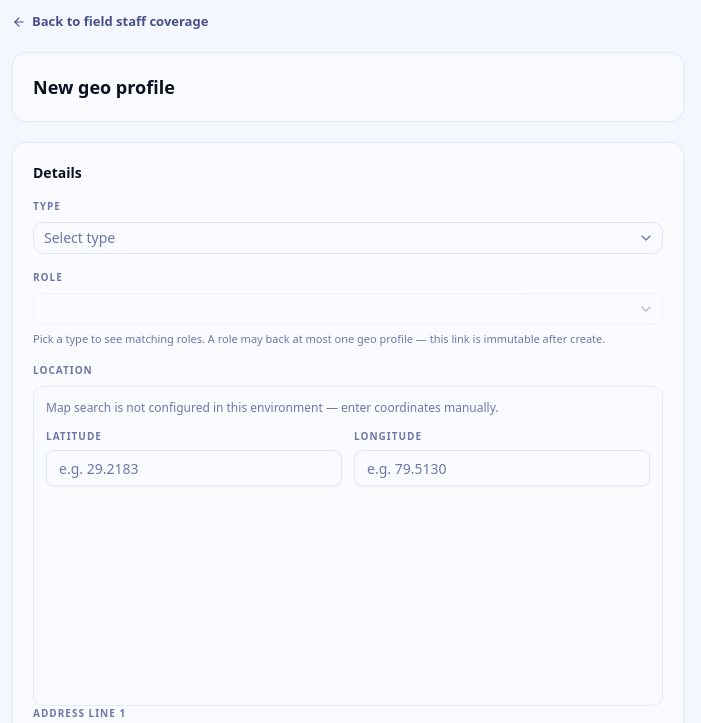
Test case: GeoProfileDetailPage — create mode › clears a previously-picked Role when the type changes, since the old role may no longer match
The width and height of the screenshot is (701, 723).
Click the dropdown labelled "Select type ▼": point(80, 237) [33,222,663,254]
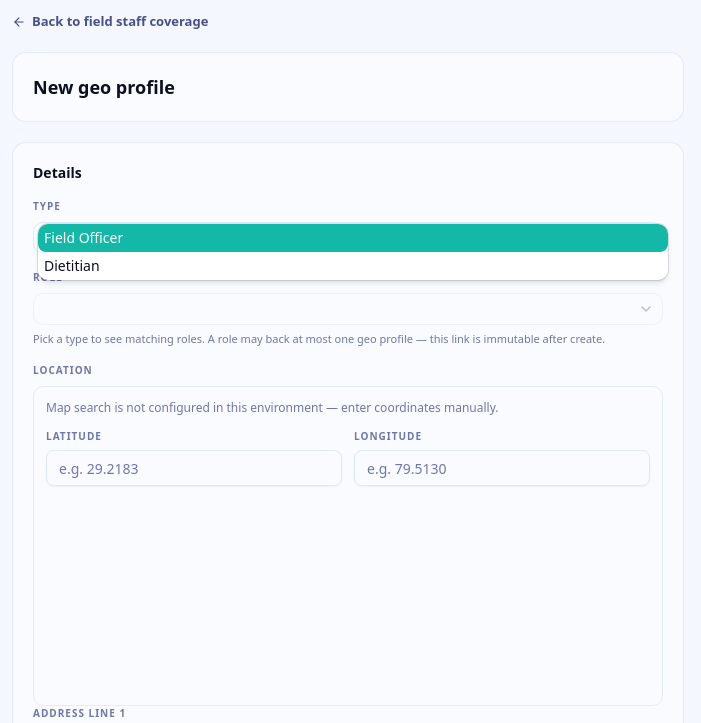
Click the option "Field Officer": point(84, 237) [38,224,668,252]
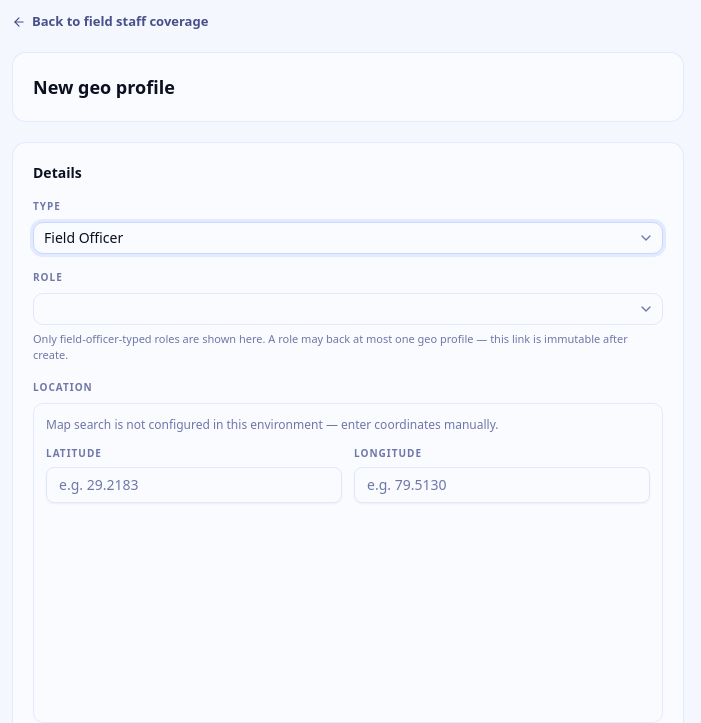
Click the dropdown named "role": point(646, 308) [33,292,663,324]
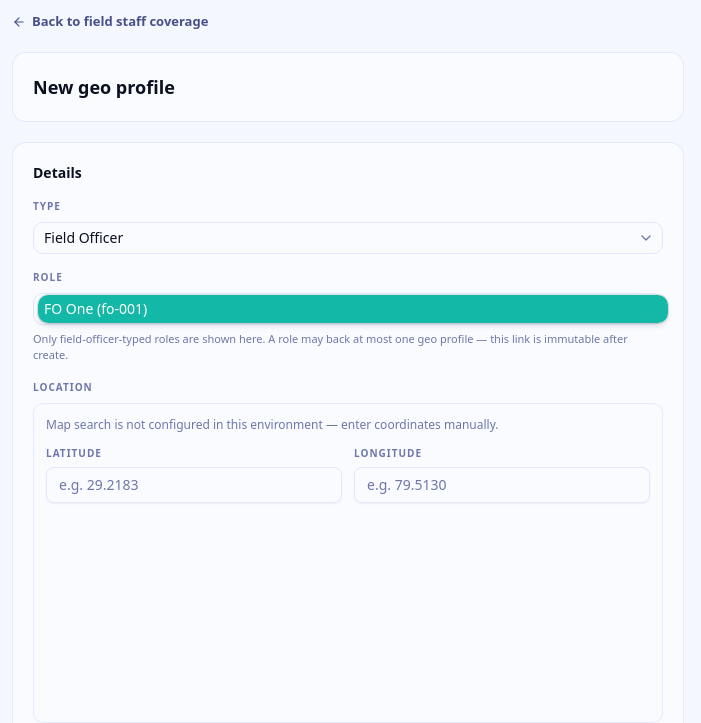
Click the option "FO One (fo-001)": point(69, 308) [38,294,668,322]
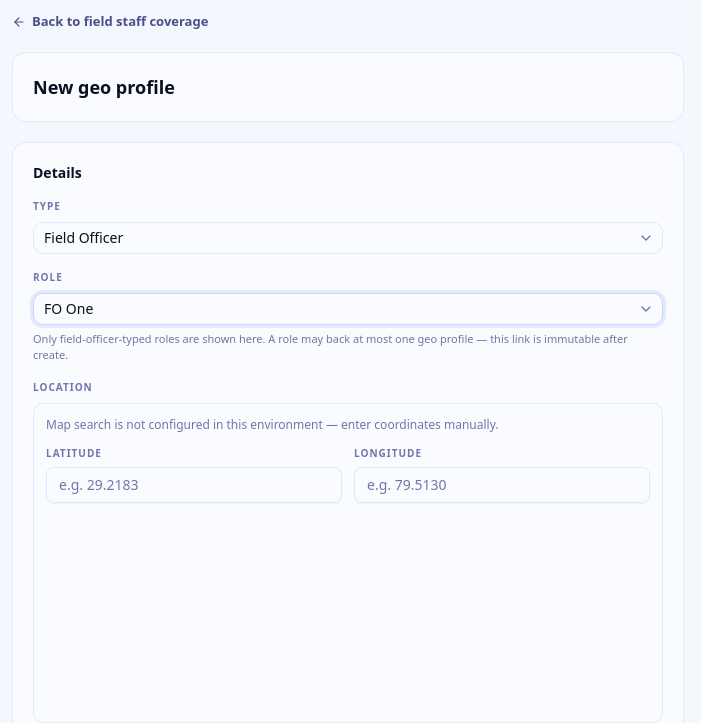
Check: the dropdown named "role" shows "FO One", box [33,292,663,324]
Click the dropdown named "type": point(84, 237) [33,222,663,254]
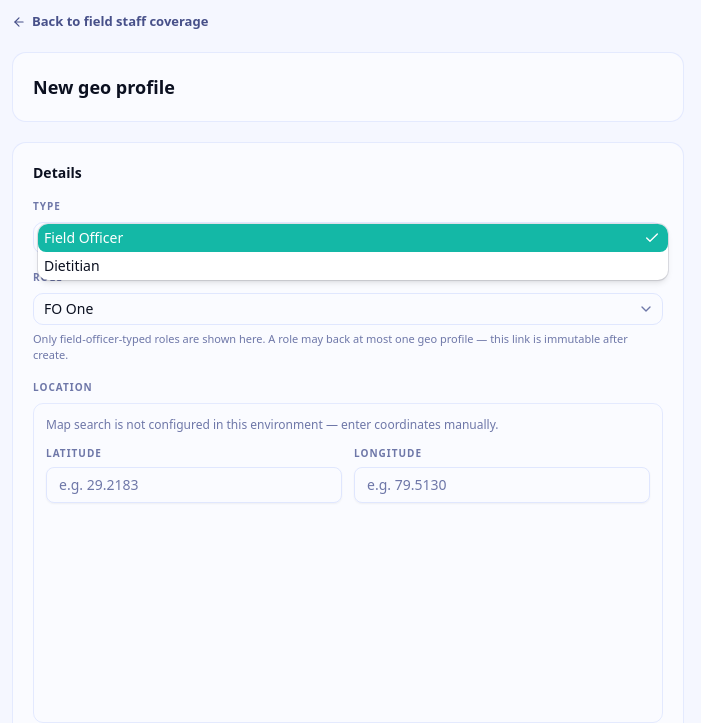
Click the option "Dietitian": point(72, 265) [44,256,100,274]
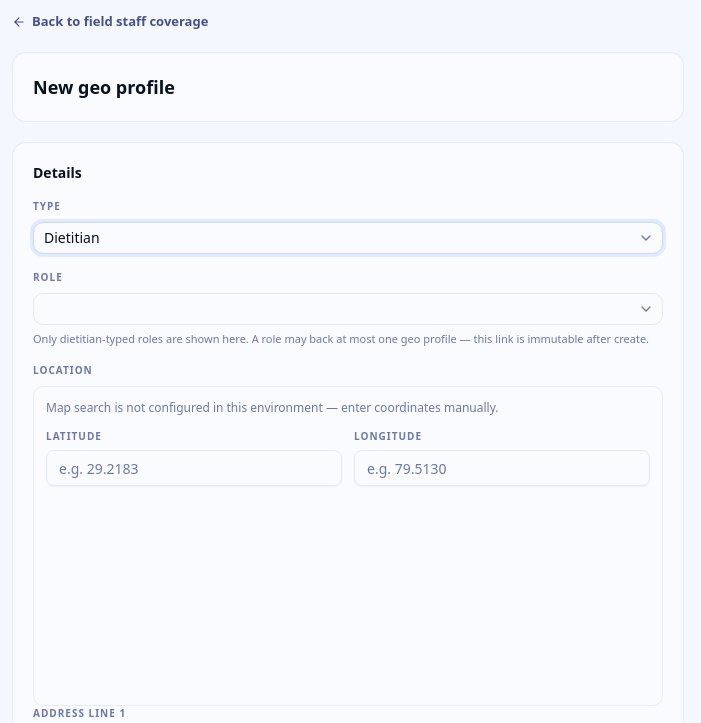
Check: the dropdown named "role" no longer shows "FO One", box [33,292,663,324]
